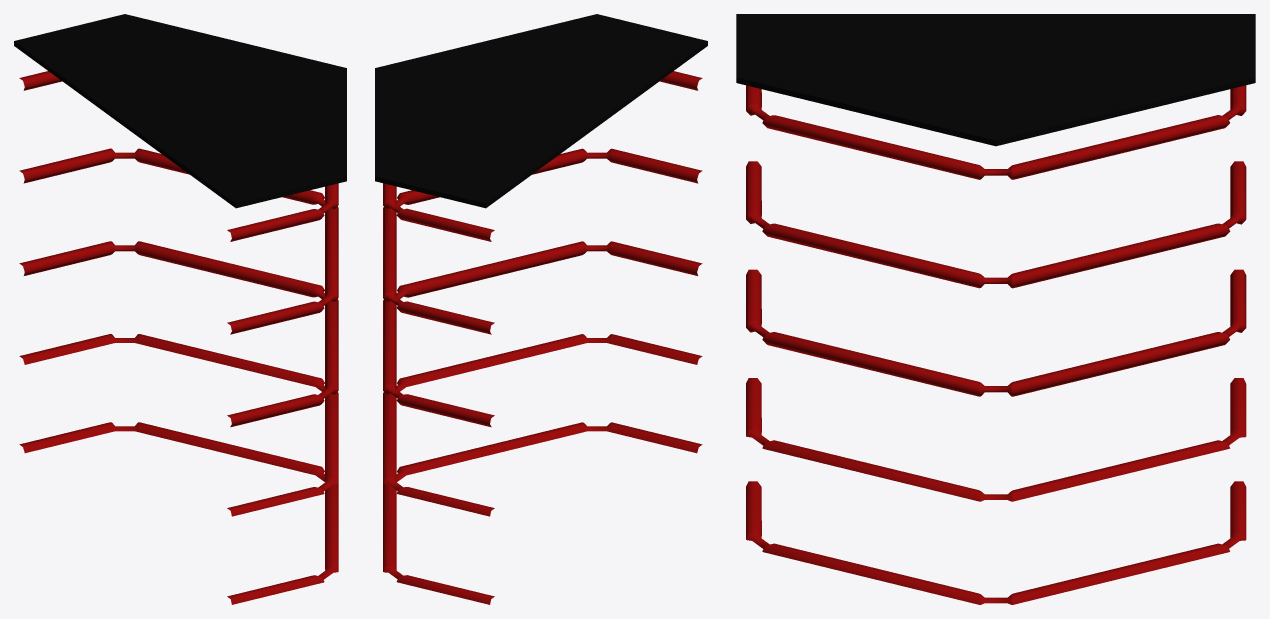
File: BO_Tile_Half_Test_SM.gltf
3 renders of one model, left to right at view 1: azimuth 30°, elevation 25°; view 2: azimuth 150°, elevation 25°; view 3: azimuth 270°, elevation 25°, orthographic. The views are drawn at different scales.
Visible parts, largest first — view 1: BO_Tile_Half_Test_SM; view 2: BO_Tile_Half_Test_SM; view 3: BO_Tile_Half_Test_SM.
Part boxes in pixels (x1,y1,x2,y2): BO_Tile_Half_Test_SM: [14, 14, 346, 604]; BO_Tile_Half_Test_SM: [375, 14, 707, 604]; BO_Tile_Half_Test_SM: [736, 14, 1255, 604].
Bounding box in the file's own units: 4.43 × 7.72 × 7.68.
